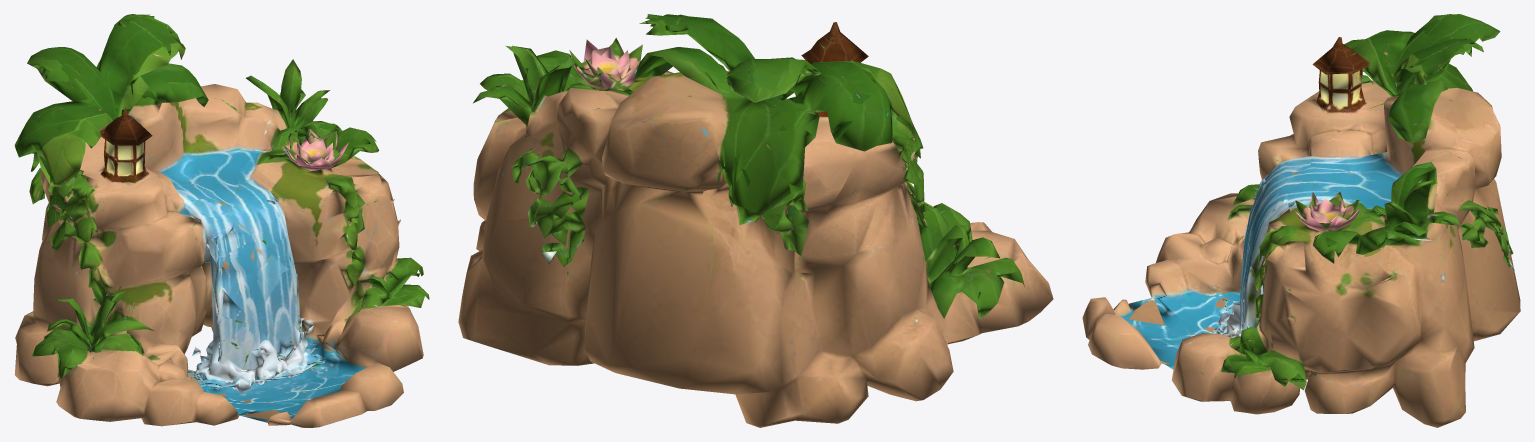
The model's file is froggy-lantern-oasis-b.glb.
3 renders of one model, left to right at view 1: azimuth 30°, elevation 25°; view 2: azimuth 150°, elevation 25°; view 3: azimuth 270°, elevation 25°, orthographic. The views are drawn at different scales.
Bounding box in the file's own units: 1.81 × 1.35 × 1.77.
1 material, 1 textured.
